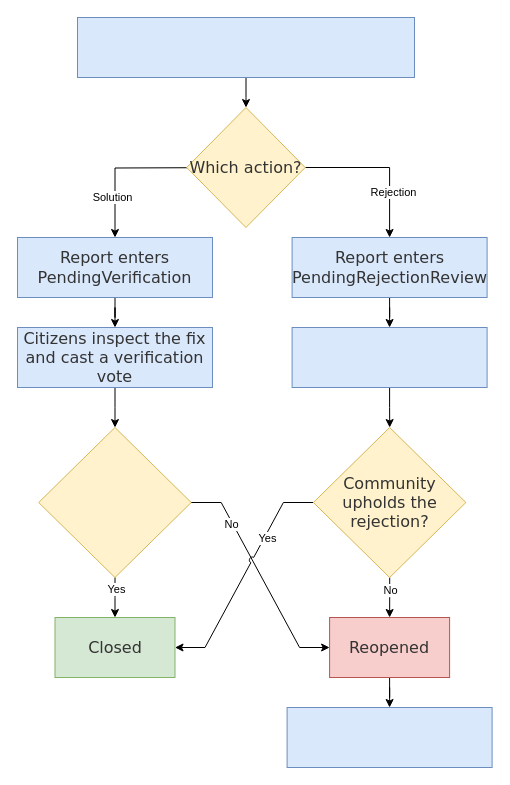
Image size: 510x785. Some labels were removed from this diagram. Here are the shapes that lost their labels. From the top down, the box of each, then its label:
(76, 16, 414, 78): Authority submits a solution or a rejection
(291, 326, 487, 388): Citizens review the rejection and cast an appeal vote
(38, 426, 191, 578): Community accepts the solution?
(286, 706, 492, 768): Authority restarts work
